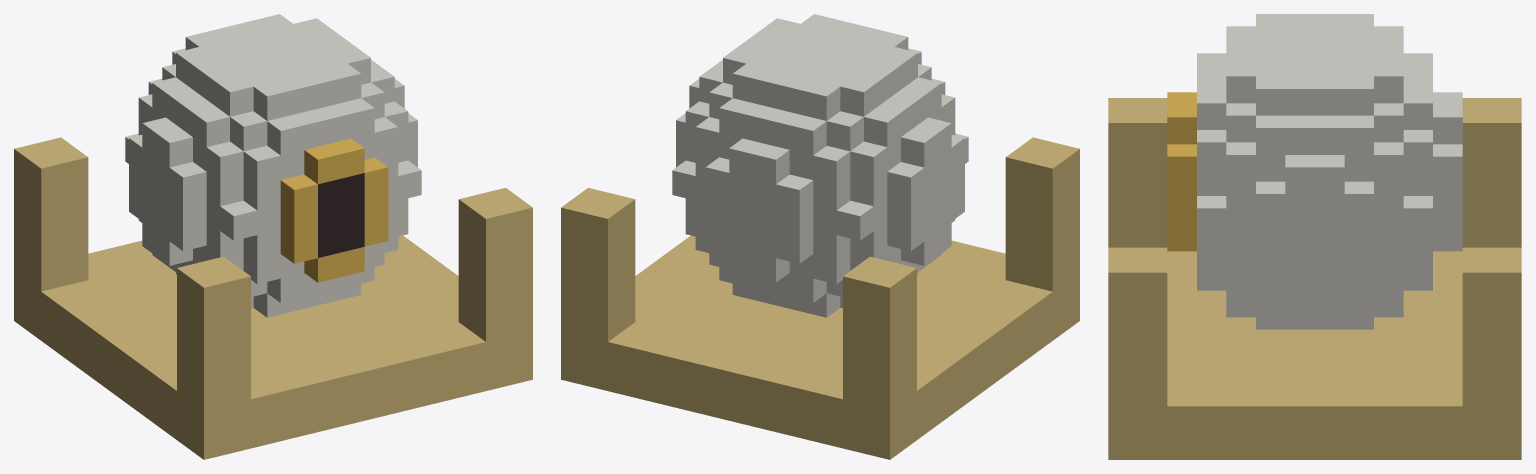
File: artifact_eye_of_balthrix.glb
3 renders of one model, left to right at view 1: azimuth 30°, elevation 25°; view 2: azimuth 150°, elevation 25°; view 3: azimuth 270°, elevation 25°, orthographic. The views are drawn at different scales.
Visible parts, largest first — view 1: artifact_eye_of_balthrix; view 2: artifact_eye_of_balthrix; view 3: artifact_eye_of_balthrix.
Boxes of the visible parts, x1,y1,x2,y2 form: artifact_eye_of_balthrix: (14,14,532,459); artifact_eye_of_balthrix: (561,14,1079,459); artifact_eye_of_balthrix: (1108,14,1521,459).
Bounding box in the file's own units: 0.168 × 0.144 × 0.168.
